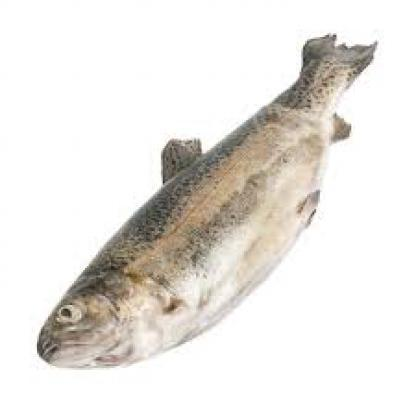fish: (32, 29, 377, 369)
